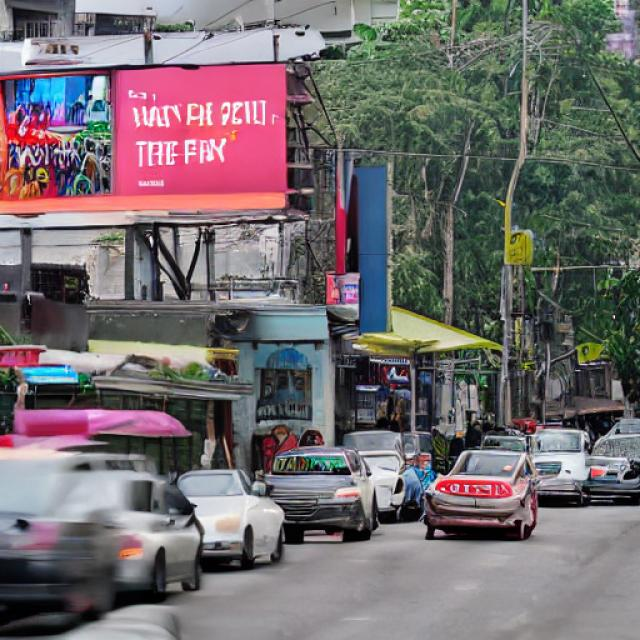Billboard: (0, 59, 292, 214)
